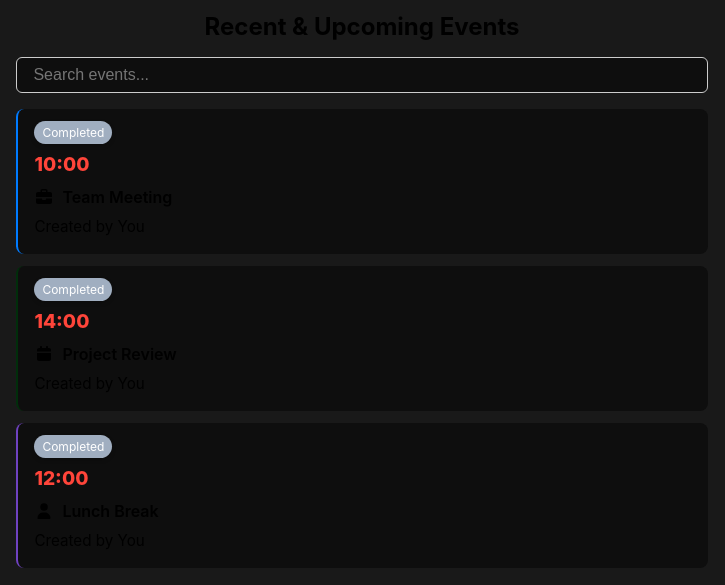
Test: ListView › should show clear button when search has value
Expected: the button "×" is not shown
Type something
Type "test" into the field with placeholder "Search events..." at [362, 75], box [16,57,708,93]
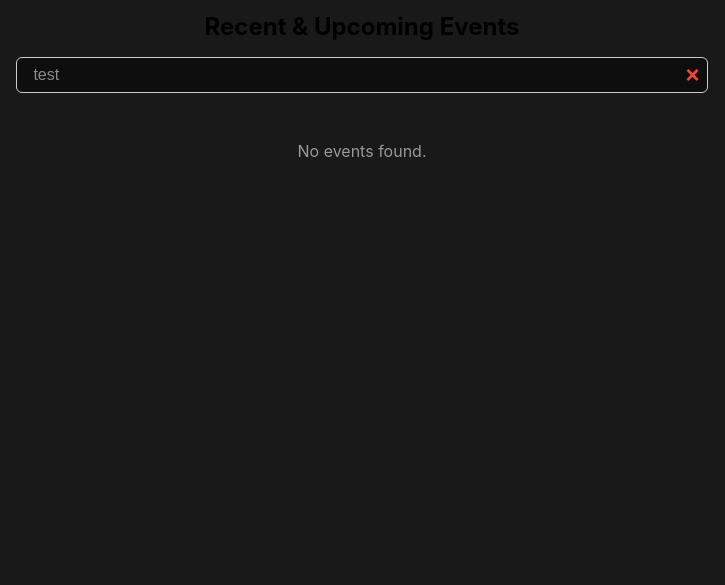
Expected: the button "×" is shown, [686,61,700,89]
